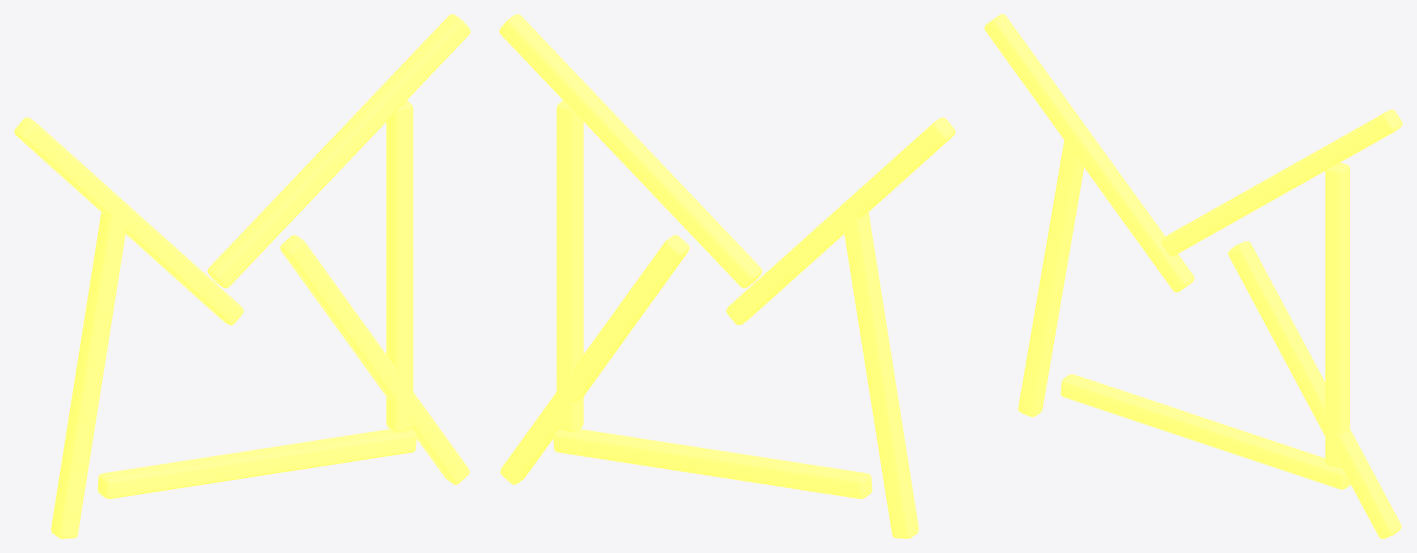
Rendered from VXDR_ATTACK_v001_FX.fbx.
3 views of the same model, side by side, from view 1: azimuth 30°, elevation 25°; view 2: azimuth 150°, elevation 25°; view 3: azimuth 330°, elevation 25° (orthographic). The views are drawn at different scales.
Parts seen in each view (by area): view 1: Impact spark.003, Impact spark.004, Impact spark.002, Impact spark, Impact spark.005, Impact spark.001; view 2: Impact spark.003, Impact spark.004, Impact spark.002, Impact spark, Impact spark.005, Impact spark.001; view 3: Impact spark.001, Impact spark.005, Impact spark.002, Impact spark, Impact spark.004, Impact spark.003.
Part boxes in pixels (x1,y1,x2,y2): Impact spark.003: [207, 14, 470, 288]; Impact spark.004: [51, 204, 129, 538]; Impact spark.002: [97, 429, 416, 498]; Impact spark: [386, 100, 413, 432]; Impact spark.005: [280, 235, 469, 484]; Impact spark.001: [14, 117, 243, 325]; Impact spark.003: [499, 14, 762, 288]; Impact spark.004: [840, 204, 918, 538]; Impact spark.002: [553, 429, 872, 498]; Impact spark: [556, 100, 583, 432]; Impact spark.005: [500, 235, 689, 484]; Impact spark.001: [726, 117, 955, 325]; Impact spark.001: [984, 14, 1194, 292]; Impact spark.005: [1228, 241, 1401, 538]; Impact spark.002: [1060, 374, 1350, 489]; Impact spark: [1325, 162, 1349, 467]; Impact spark.004: [1018, 130, 1089, 417]; Impact spark.003: [1161, 109, 1402, 256].
Bounding box in the file's own units: 11.52 × 11.4 × 0.5.
